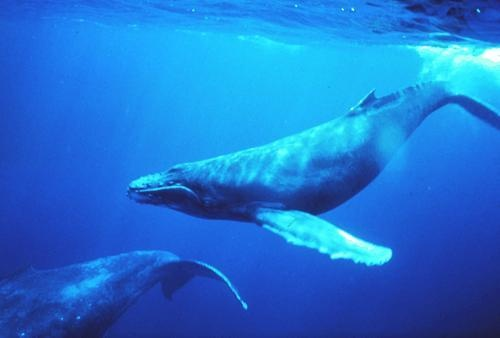fish: (124, 78, 500, 268)
